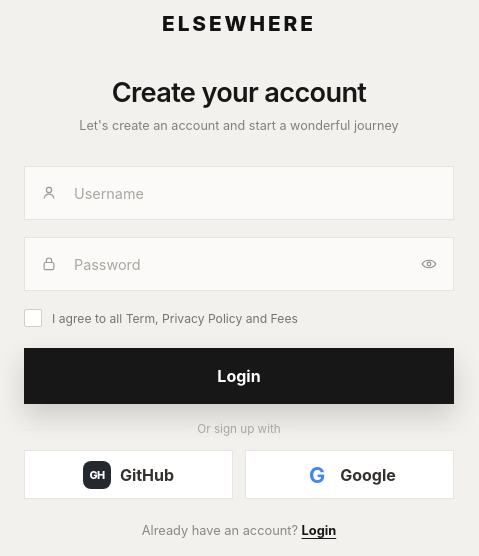
Test case: AuthPanel › switches password visibility without changing its value
This screenshot has width=479, height=556.
Step 1. Type "secret-path" into the password field labelled "Password" → (238, 264), box [72, 238, 405, 290]
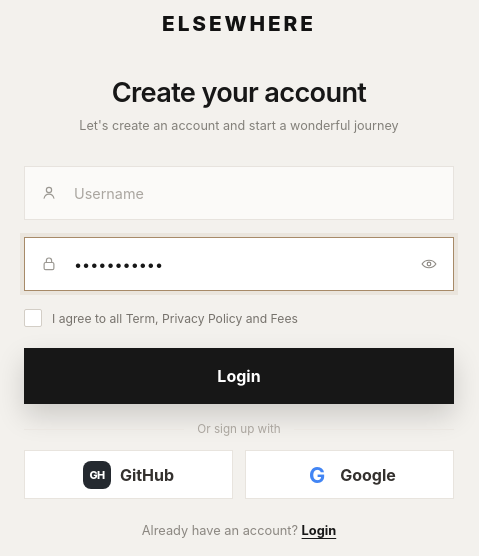
Step 2. Click the button named "Show password" → (429, 264), box [405, 238, 453, 290]
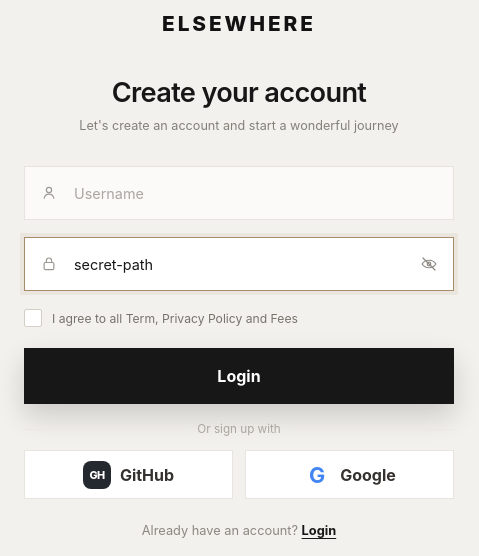
Now the field named "Password" shows its text, box [72, 238, 405, 290]
Now the button named "Hide password" is shown, box [405, 238, 453, 290]
